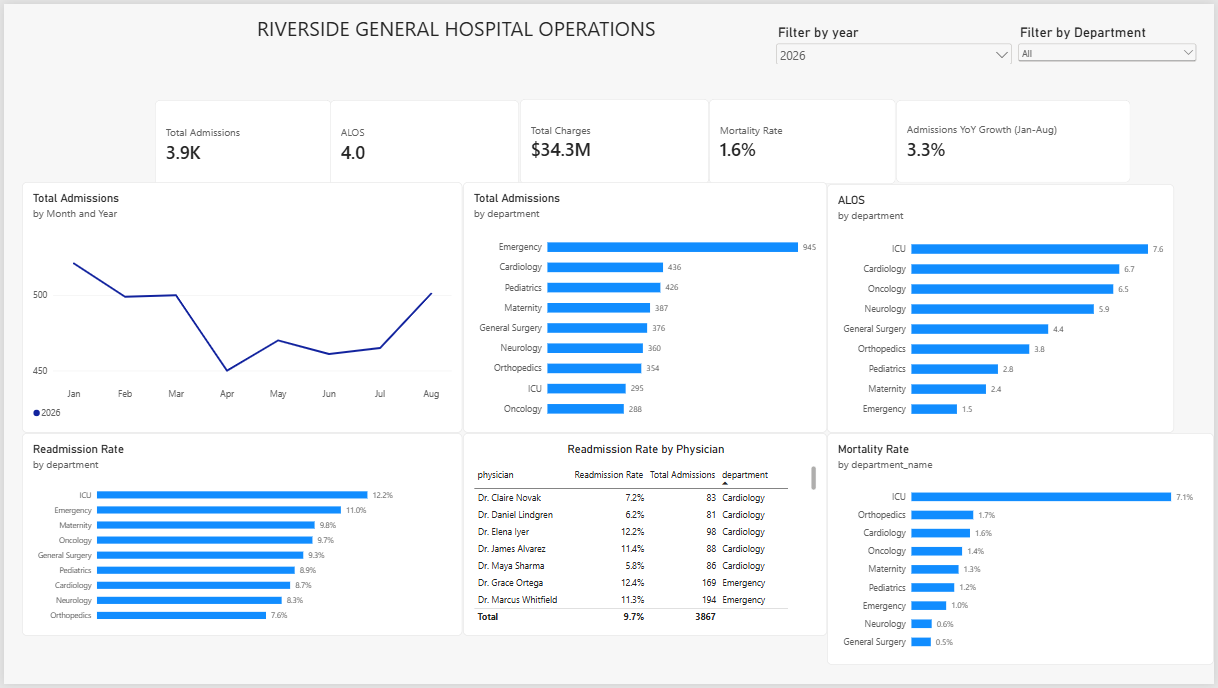

The page's visual inventory and layout, read from the dashboard file:
{"tool":"powerbi","page":{"name":"Page 1","canvas":[1920,1080],"ordinal":0},"visuals":[{"type":"cardVisual","fields":{"Data":["fact_admissions.Total Admissions"]},"box":[239.3,151.7,280.1,140.1],"z":0},{"type":"cardVisual","fields":{"Data":["fact_admissions.ALOS"]},"box":[517.9,151.7,300.5,140.1],"z":1000},{"type":"cardVisual","fields":{"Data":["fact_admissions.Mortality Rate"]},"box":[1119,150.3,296.2,135.7],"z":2000},{"type":"cardVisual","fields":{"Data":["fact_admissions.Total Charges"]},"box":[818.5,150.3,300.5,135.7],"z":3000},{"type":"lineChart","fields":{"Category":["dim_date.Month"],"Series":["dim_date.Year"],"Y":["fact_admissions.Total Admissions"]},"box":[29.2,283,698.8,398.3],"z":4000},{"type":"clusteredBarChart","fields":{"Category":["dim_departments.department_name"],"Y":["fact_admissions.Total Admissions"]},"box":[728,283,577.8,398.3],"z":5000},{"type":"slicer","fields":{"Values":["dim_date.Year"]},"box":[1221.2,32.1,383.7,62.7],"z":6000},{"type":"slicer","fields":{"Values":["dim_departments.department_name"]},"box":[1604.9,32.1,293.3,62.7],"z":7000},{"type":"textbox","box":[401.2,16,790.8,93.4],"z":8000},{"type":"clusteredBarChart","fields":{"Category":["dim_departments.department_name"],"Y":["fact_admissions.ALOS"]},"box":[1305.8,286,551.5,395.4],"z":9000},{"type":"clusteredBarChart","fields":{"Category":["dim_departments.department_name"],"Y":["fact_admissions.Readmission Rate"]},"box":[29,681,698.8,322.4],"z":10000},{"type":"tableEx","title":"Readmission Rate by Physician","fields":{"Values":["dim_physicians.physician_name","fact_admissions.Readmission Rate","fact_admissions.Total Admissions","dim_departments.department_name"]},"box":[728,681,578,322],"z":11000},{"type":"clusteredBarChart","fields":{"Category":["dim_departments.department_name"],"Y":["fact_admissions.Mortality Rate"]},"box":[1305.8,681.3,614.2,367.7],"z":12000},{"type":"cardVisual","fields":{"Data":["fact_admissions.Admissions YoY %"]},"box":[1415.2,151.7,372,131.3],"z":13000}]}

Visuals, with their boxes in screenshot pixels (x1, y1, x2, y2), scaled from the page's 1920x1080 canvas onto the 1218x688 screenshot:
cardVisual - fact_admissions.Total Admissions: [x1=152, y1=97, x2=329, y2=186]
cardVisual - fact_admissions.ALOS: [x1=329, y1=97, x2=519, y2=186]
cardVisual - fact_admissions.Mortality Rate: [x1=710, y1=96, x2=898, y2=182]
cardVisual - fact_admissions.Total Charges: [x1=519, y1=96, x2=710, y2=182]
lineChart - dim_date.Month x dim_date.Year: [x1=19, y1=180, x2=462, y2=434]
clusteredBarChart - dim_departments.department_name x fact_admissions.Total Admissions: [x1=462, y1=180, x2=828, y2=434]
slicer - dim_date.Year: [x1=775, y1=20, x2=1018, y2=60]
slicer - dim_departments.department_name: [x1=1018, y1=20, x2=1204, y2=60]
textbox: [x1=255, y1=10, x2=756, y2=70]
clusteredBarChart - dim_departments.department_name x fact_admissions.ALOS: [x1=828, y1=182, x2=1178, y2=434]
clusteredBarChart - dim_departments.department_name x fact_admissions.Readmission Rate: [x1=18, y1=434, x2=462, y2=639]
"Readmission Rate by Physician" tableEx: [x1=462, y1=434, x2=828, y2=639]
clusteredBarChart - dim_departments.department_name x fact_admissions.Mortality Rate: [x1=828, y1=434, x2=1217, y2=668]
cardVisual - fact_admissions.Admissions YoY %: [x1=898, y1=97, x2=1134, y2=180]
